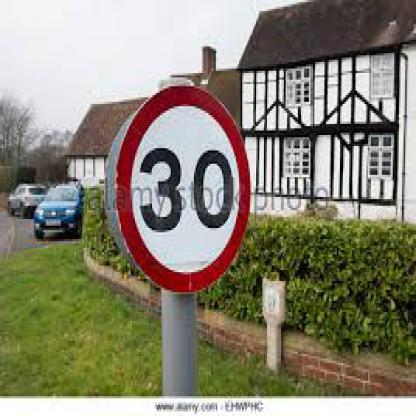Speed Limit 30: (117, 87, 249, 290)
